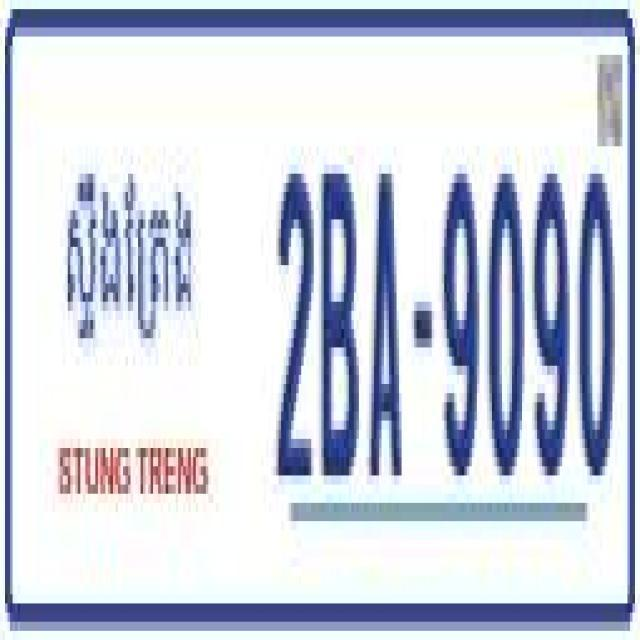Stung_Treng: (63, 147, 197, 358)
